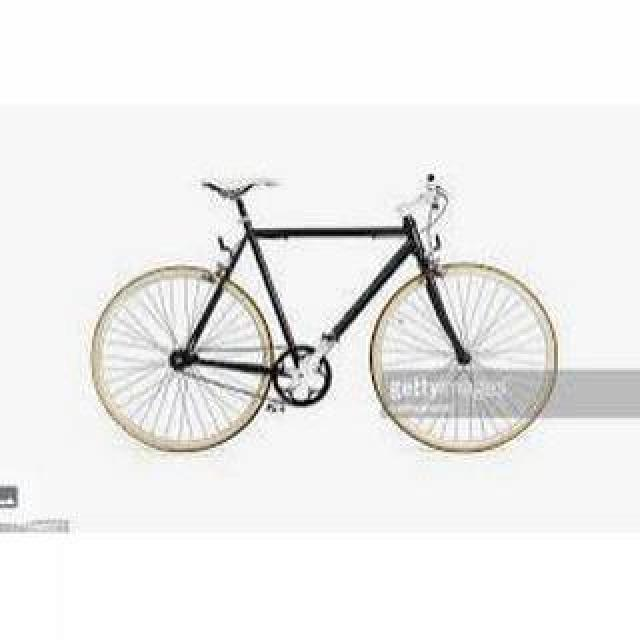Person: (91, 161, 561, 455)
